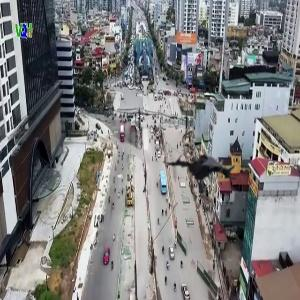drone: (164, 129, 245, 210)
